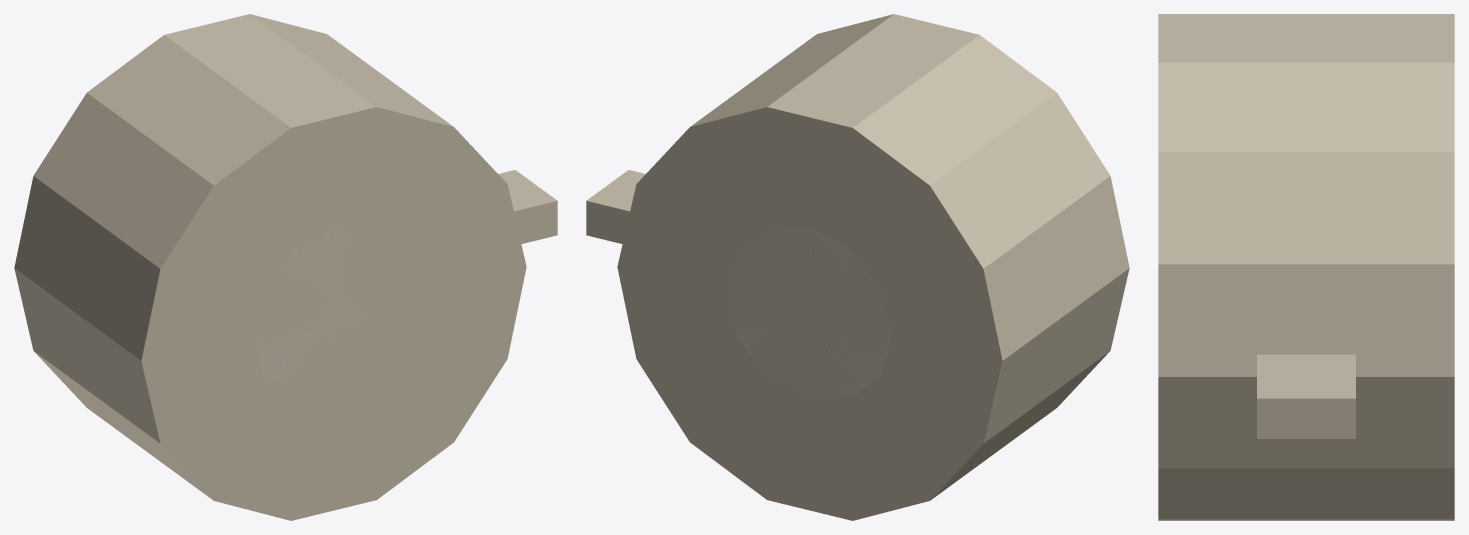
Rendered from bandage.glb.
The picture shows the model from 3 angles, left to right: view 1: azimuth 30°, elevation 25°; view 2: azimuth 150°, elevation 25°; view 3: azimuth 270°, elevation 25°; orthographic projection. The views are drawn at different scales.
Visible parts, largest first — view 1: 00_bandage_roll, 01_core, 02_loose_strip; view 2: 00_bandage_roll, 01_core, 02_loose_strip; view 3: 00_bandage_roll, 02_loose_strip.
Part boxes in pixels (left/top/right/bottom): 00_bandage_roll: left=14, top=14, right=526, bottom=520; 01_core: left=253, top=227, right=411, bottom=397; 02_loose_strip: left=498, top=170, right=557, bottom=243; 00_bandage_roll: left=617, top=14, right=1129, bottom=520; 01_core: left=729, top=227, right=892, bottom=399; 02_loose_strip: left=586, top=170, right=645, bottom=243; 00_bandage_roll: left=1158, top=14, right=1454, bottom=520; 02_loose_strip: left=1257, top=354, right=1355, bottom=438.
Bounding box in the file's own units: 0.25 × 0.2047 × 0.12.
